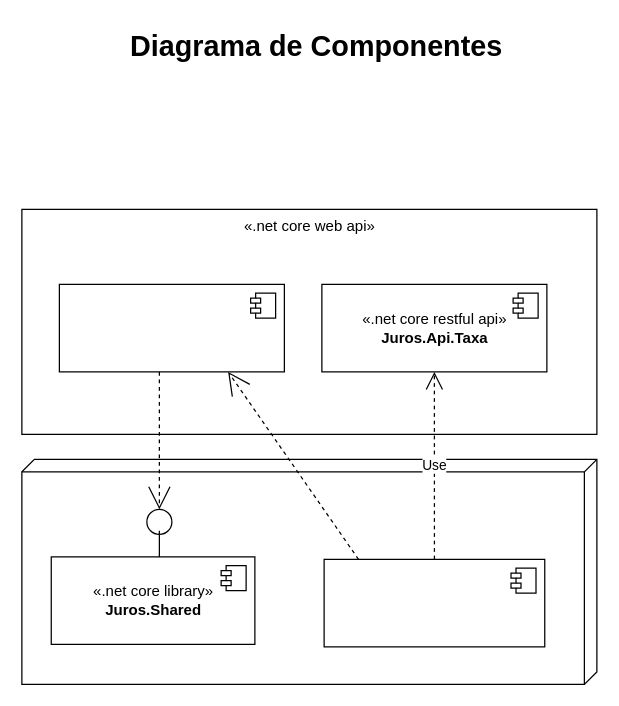
Some shapes in this 619 by 706 pixel diagram are drawn without their labels. Each missing label, with the centre of its shape:
"«.net core restful api» Juros.Api.Calculo" goes at pixel 171 327.
"«.net core test library» Juros.Test" goes at pixel 434 602.
